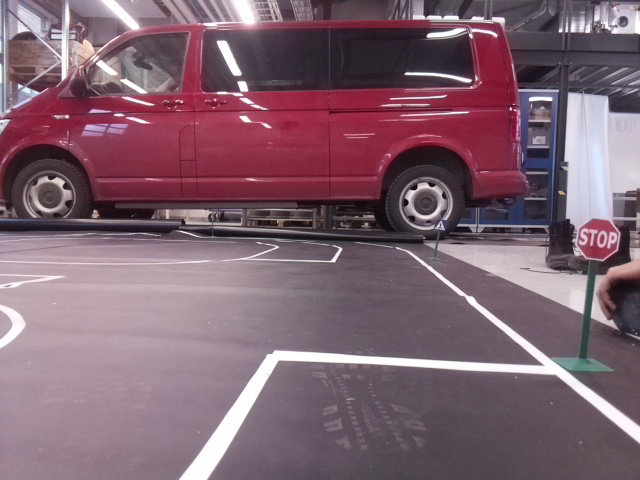Stop: (578, 213, 619, 259)
